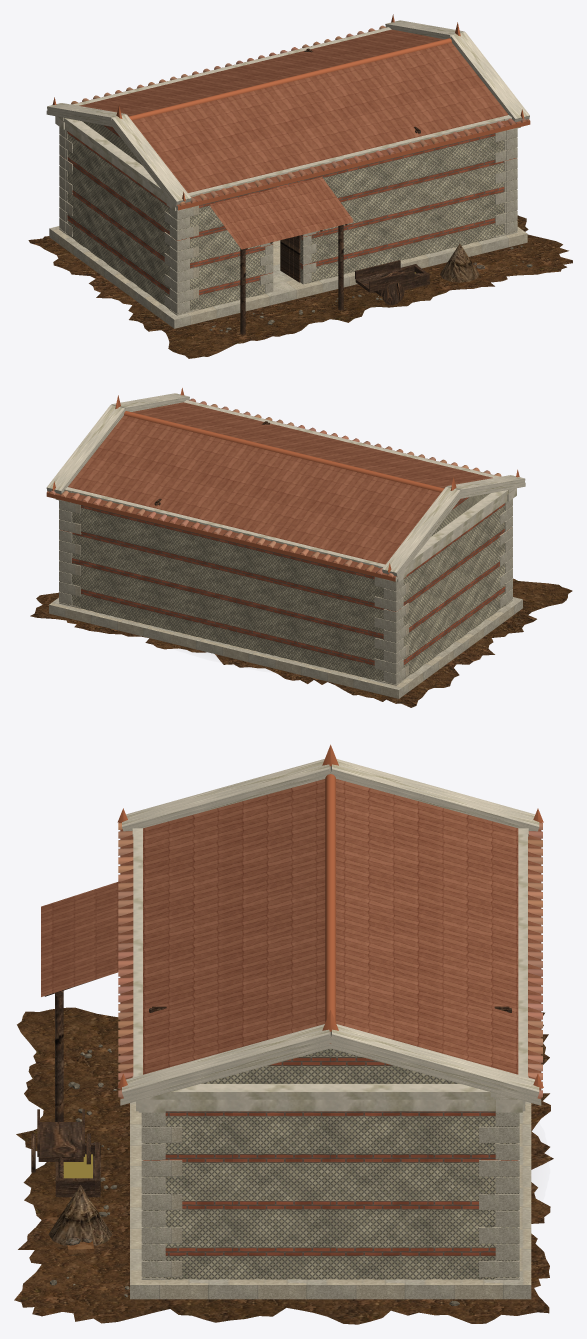
File: farm@2.glb
3 views of the same model, one above another, from view 1: azimuth 30°, elevation 25°; view 2: azimuth 150°, elevation 25°; view 3: azimuth 270°, elevation 25° (orthographic). The views are drawn at different scales.
Visible parts, largest first — view 1: part_21, part_4, part_5, part_1, part_22, part_9, part_24, part_25, part_20; view 2: part_4, part_21, part_5, part_22, part_1, part_24, part_25; view 3: part_21, part_4, part_22, part_1, part_5, part_25, part_9, part_24, part_20.
Boxes of the visible parts, bbox=[...] form: part_21: bbox=[79, 29, 529, 249]; part_4: bbox=[60, 121, 516, 314]; part_5: bbox=[49, 127, 527, 328]; part_1: bbox=[28, 215, 572, 358]; part_22: bbox=[46, 20, 529, 211]; part_9: bbox=[240, 49, 477, 334]; part_24: bbox=[52, 14, 530, 210]; part_25: bbox=[71, 25, 527, 205]; part_20: bbox=[440, 243, 479, 282]; part_4: bbox=[59, 493, 511, 684]; part_21: bbox=[47, 402, 492, 577]; part_5: bbox=[49, 499, 522, 698]; part_22: bbox=[46, 393, 525, 582]; part_1: bbox=[30, 578, 572, 707]; part_24: bbox=[46, 388, 519, 581]; part_25: bbox=[49, 398, 501, 577]; part_21: bbox=[41, 779, 541, 1099]; part_4: bbox=[142, 1048, 518, 1279]; part_22: bbox=[120, 759, 541, 1112]; part_1: bbox=[14, 1007, 553, 1324]; part_5: bbox=[130, 1101, 531, 1299]; part_25: bbox=[118, 823, 542, 1097]; part_9: bbox=[31, 980, 511, 1239]; part_24: bbox=[117, 744, 543, 1088]; part_20: bbox=[48, 1185, 112, 1246].
Bounding box in the file's own units: 8.53 × 3.61 × 6.32.
Materials: 25 (14 with a texture image).
